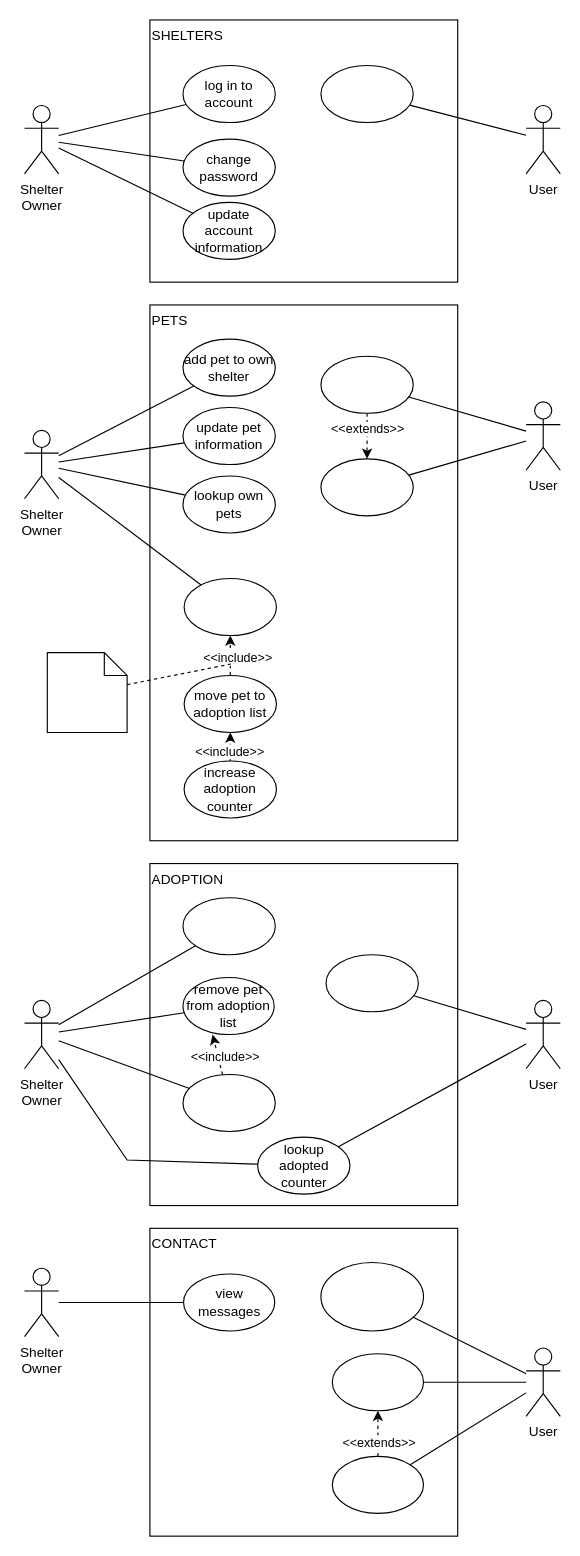
The diagram is 580 pixels wide and 1556 high, and some of its shapes have lost their labels. Each missing label, with the centre of its shape:
contact on specific pet: point (377, 1484)
contact shelter: point (377, 1382)
filter pet list: point (366, 384)
if "adopted" is checked: point (86, 692)
lookup all adopted pets: point (371, 983)
lookup all pets: point (366, 487)
lookup own adopted pets: point (228, 926)
lookup shelters: point (366, 93)
move pet to shelter list: point (228, 1102)
remove pet from own shelter: point (229, 606)
view shelters contact information: point (372, 1296)
